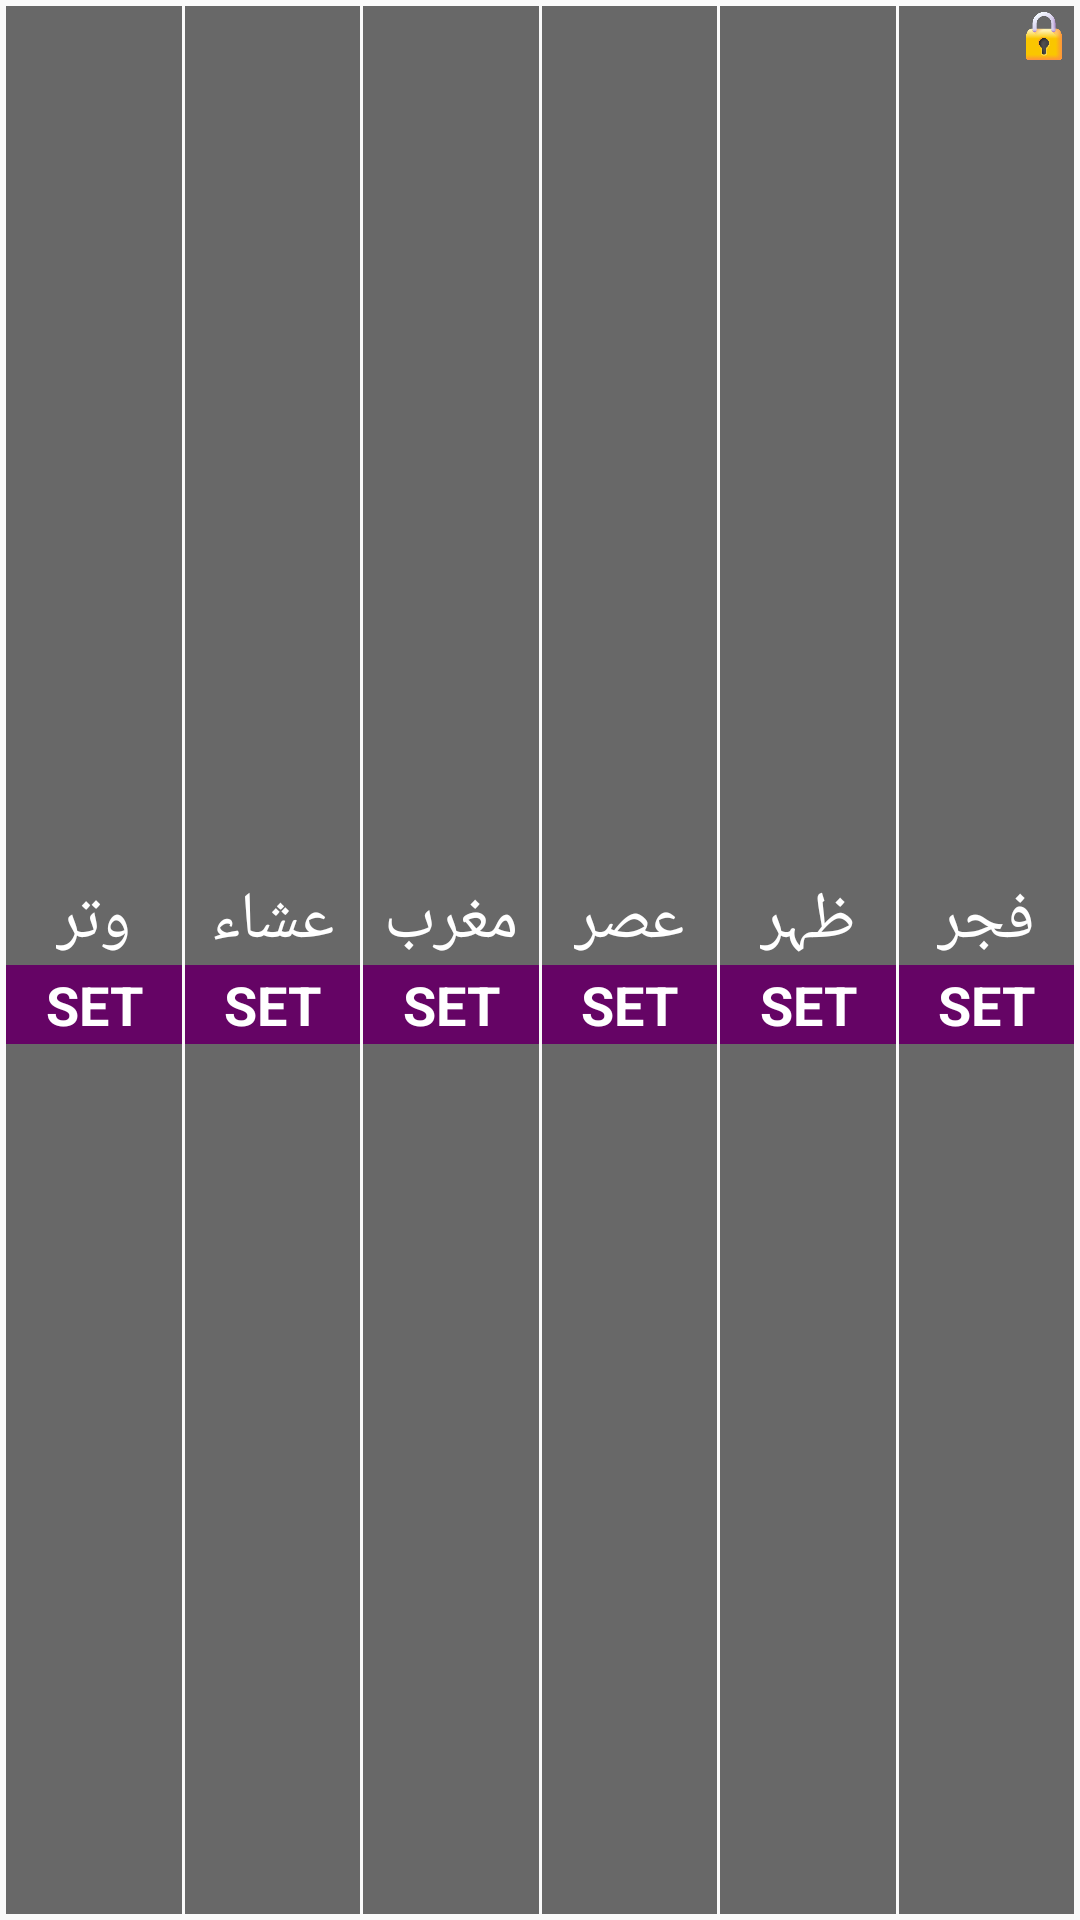

Where icons sit on this 1080px×1920px app screen, as [x1, y1, x2, y2]:
lock: [1026, 12, 1062, 60]
